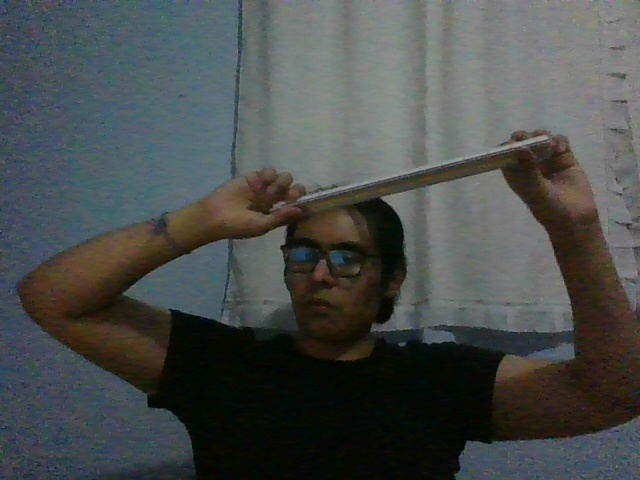regla: (270, 135, 552, 215)
